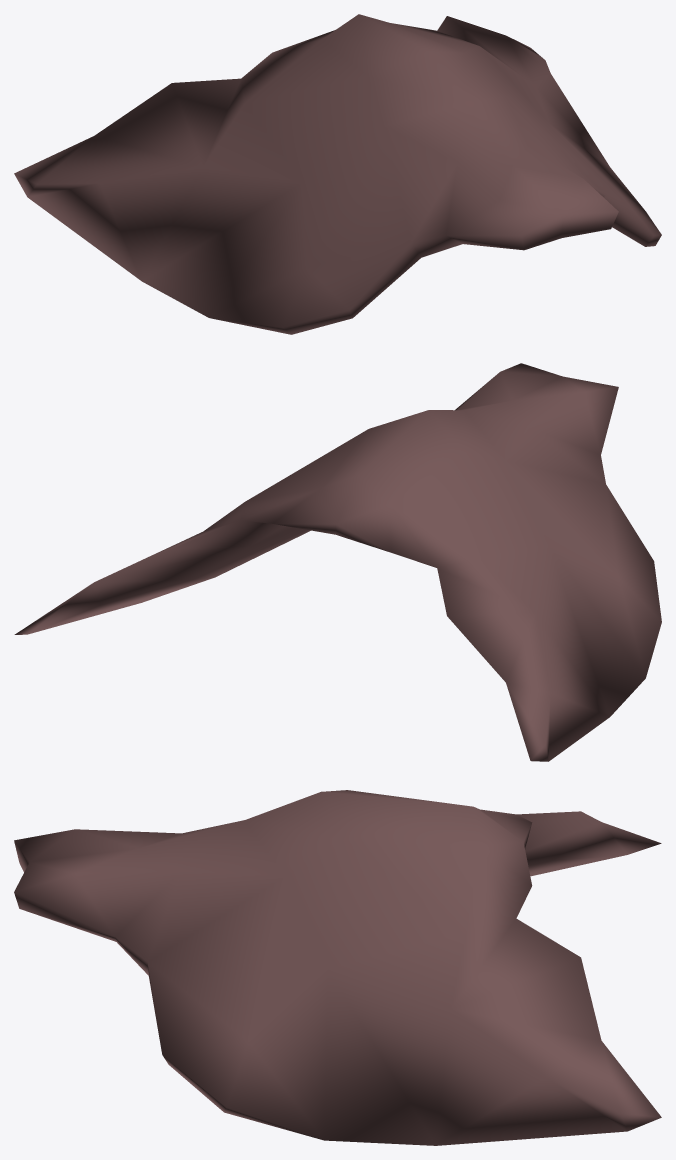
Rendered from SM_BirdSkeletonPelvis.FBX.
3 renders of one model, top to bottom at view 1: azimuth 30°, elevation 25°; view 2: azimuth 150°, elevation 25°; view 3: azimuth 270°, elevation 25°, orthographic. The views are drawn at different scales.
Visible parts, largest first — view 1: SM_BirdSkeletonPelvis; view 2: SM_BirdSkeletonPelvis; view 3: SM_BirdSkeletonPelvis.
Part boxes in pixels (x1,y1,x2,y2): SM_BirdSkeletonPelvis: (14, 14, 661, 334); SM_BirdSkeletonPelvis: (14, 363, 661, 761); SM_BirdSkeletonPelvis: (14, 790, 661, 1145).
Size of the model in its own units: 59.67 by 23.66 by 59.08.
